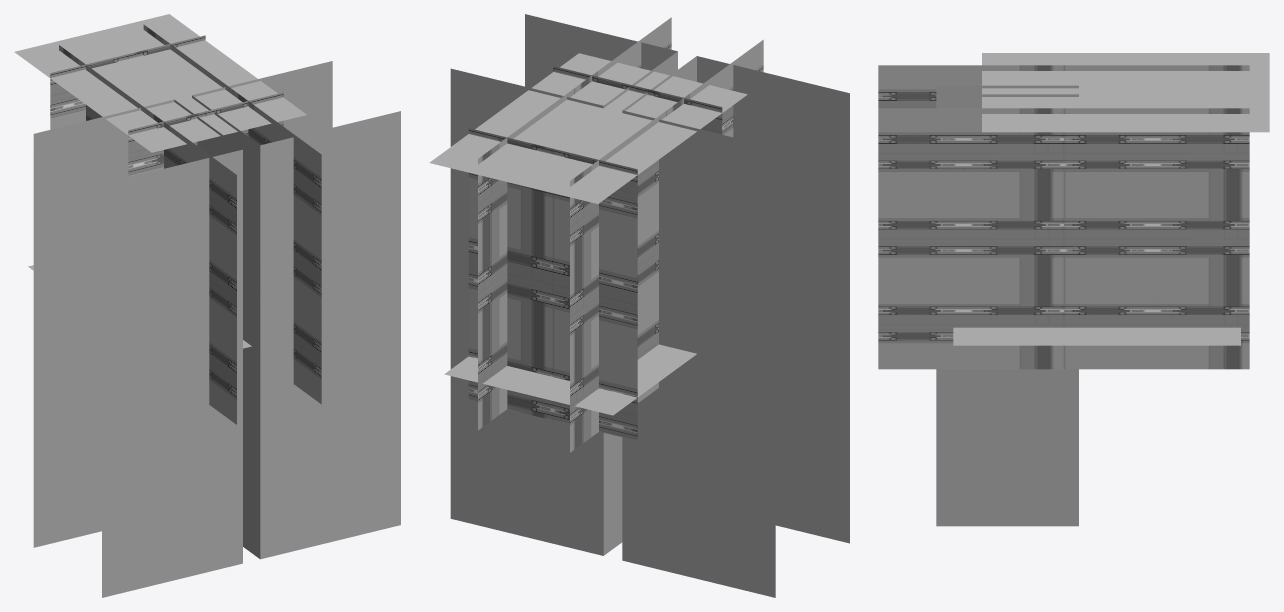
The model's file is HangarLevel.fbx.
3 views of the same model, side by side, from view 1: azimuth 30°, elevation 25°; view 2: azimuth 150°, elevation 25°; view 3: azimuth 270°, elevation 25° (orthographic). The views are drawn at different scales.
Visible parts, largest first — view 1: Hanger; view 2: Hanger; view 3: Hanger.
Boxes of the visible parts, x1,y1,x2,y2 form: Hanger: (14, 14, 400, 597); Hanger: (429, 14, 849, 597); Hanger: (878, 53, 1269, 526).
Bounding box in the file's own units: 35050 × 46729 × 38118.
